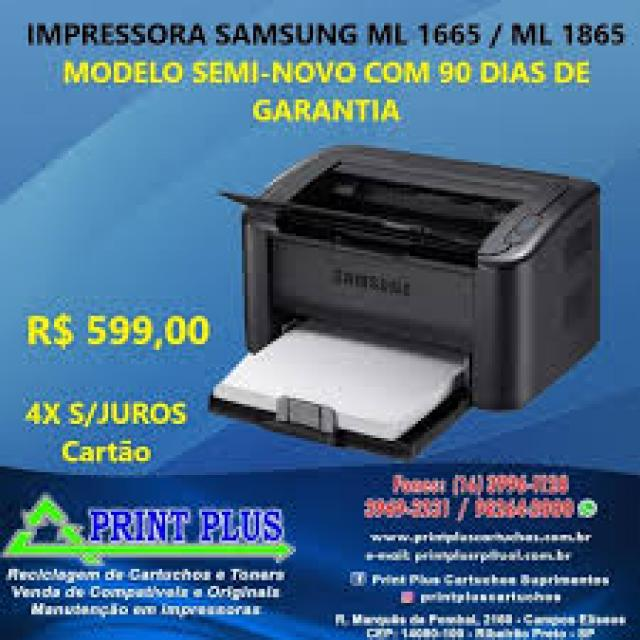printer: (207, 138, 604, 460)
